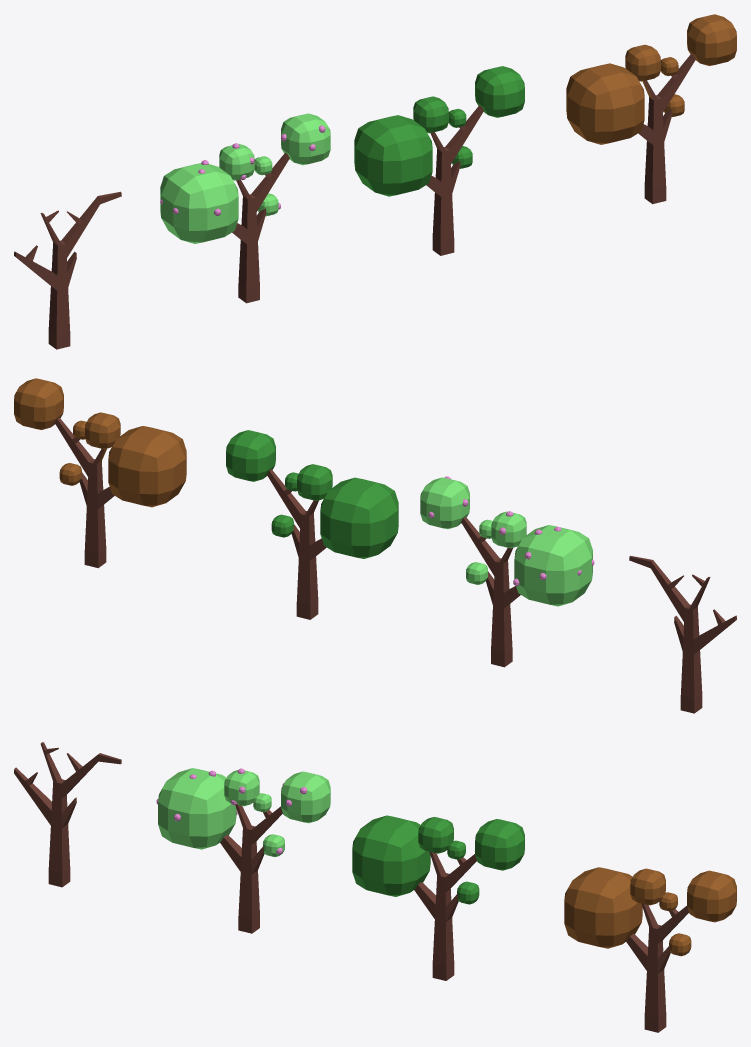
The model's file is tree.fbx.
3 renders of one model, top to bottom at view 1: azimuth 30°, elevation 25°; view 2: azimuth 150°, elevation 25°; view 3: azimuth 330°, elevation 25°, orthographic.
Parts seen in each view (by area): view 1: tree.001, tree.002, tree.003, tree; view 2: tree.001, tree.003, tree.002, tree; view 3: tree.001, tree.002, tree.003, tree.
Boxes of the visible parts, x1,y1,x2,y2 form: tree.001: (160, 113, 330, 303); tree.002: (354, 66, 524, 255); tree.003: (566, 14, 736, 204); tree: (14, 191, 121, 349); tree.001: (420, 476, 594, 667); tree.003: (14, 378, 186, 568); tree.002: (226, 430, 398, 619); tree: (629, 555, 736, 713); tree.001: (156, 768, 330, 933); tree.002: (352, 815, 524, 980); tree.003: (564, 867, 736, 1032); tree: (14, 742, 121, 887).
Size of the model in its own units: 3510 by 781 by 349.
